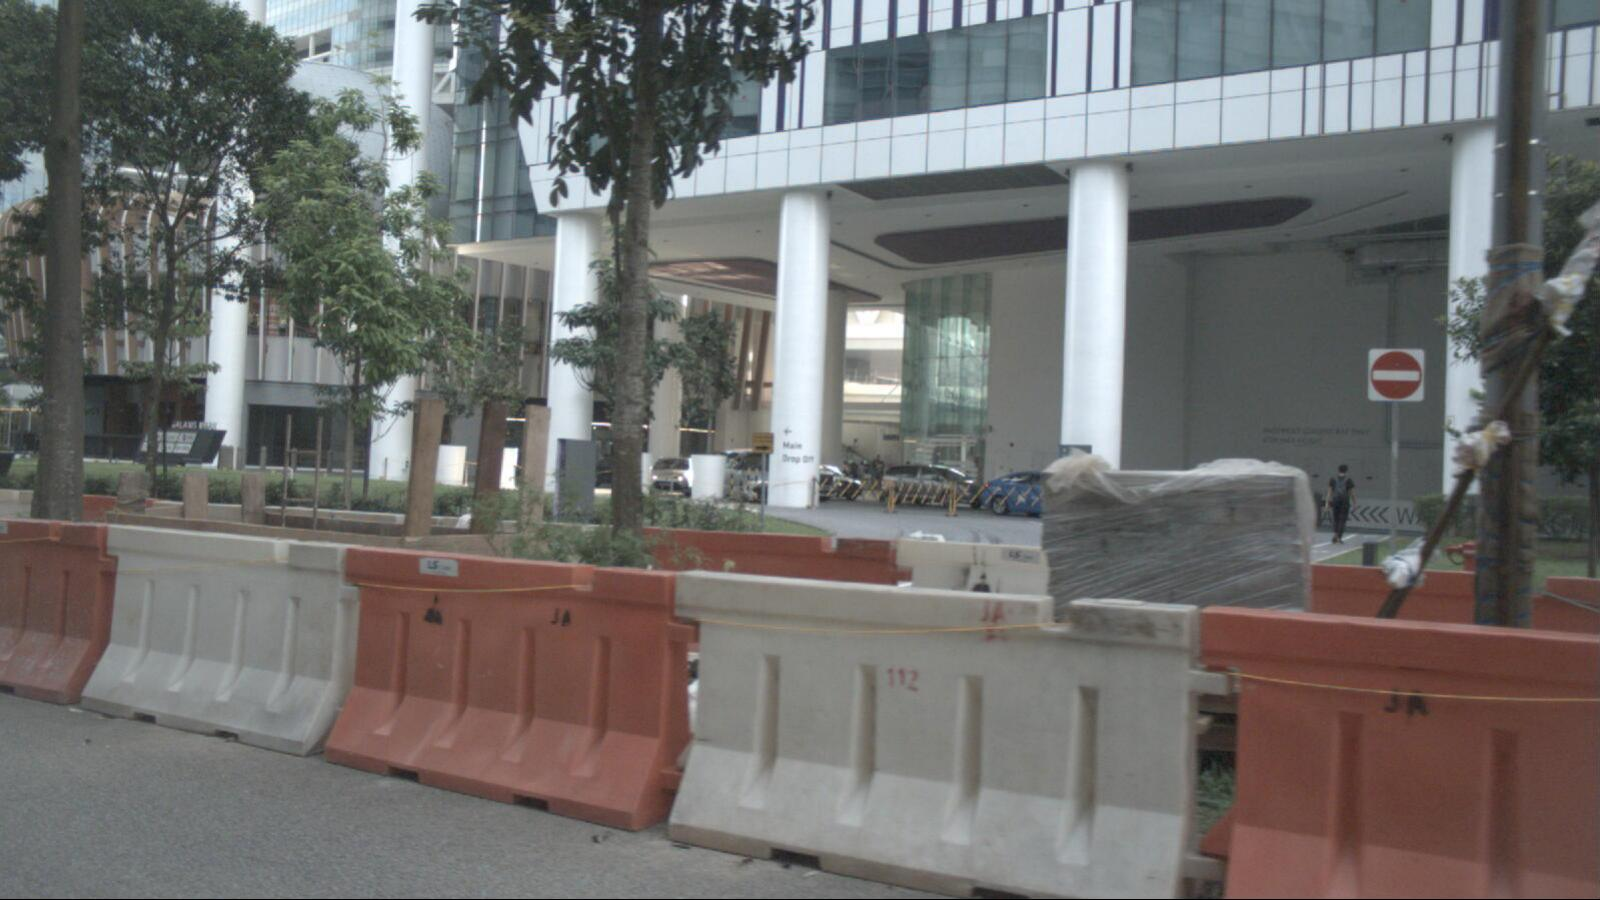human.pedestrian.adult-pedestrian.moving: (1322, 463, 1357, 548)
human.pedestrian.adult-pedestrian.standing: (871, 454, 885, 488)
